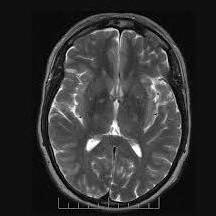Normal_Brain: (28, 1, 216, 216)
